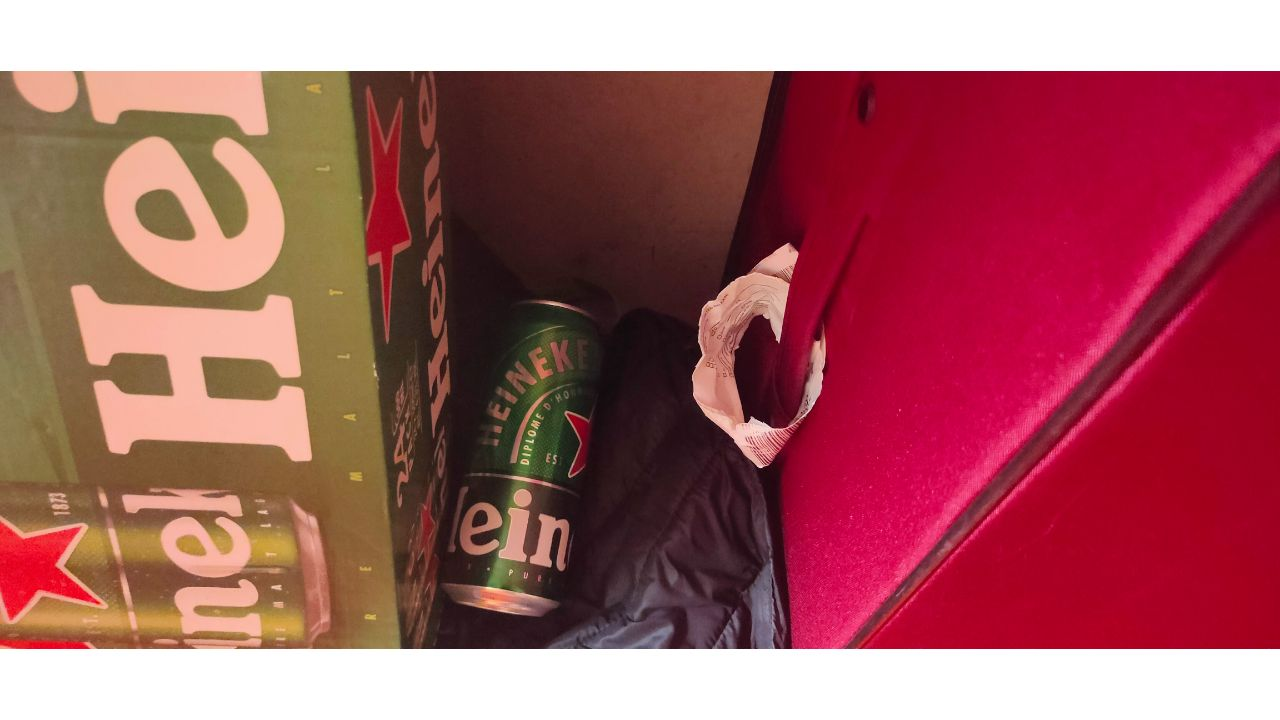Can: (447, 295, 602, 621)
